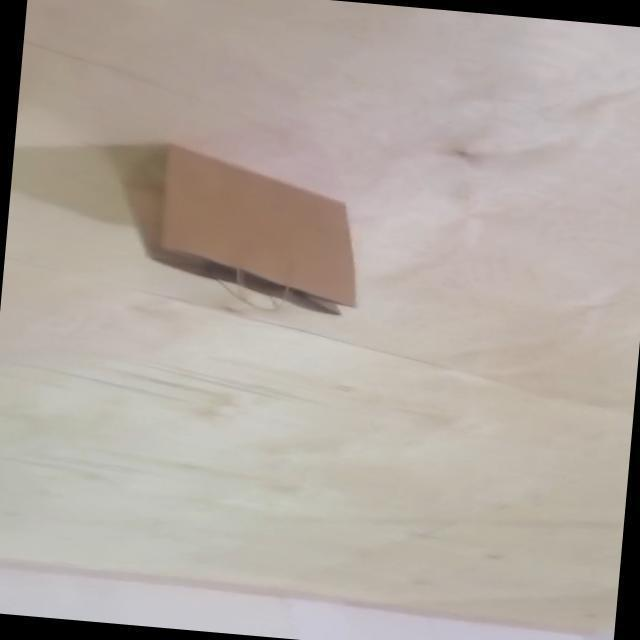Paper_Bag: (114, 140, 369, 320)
